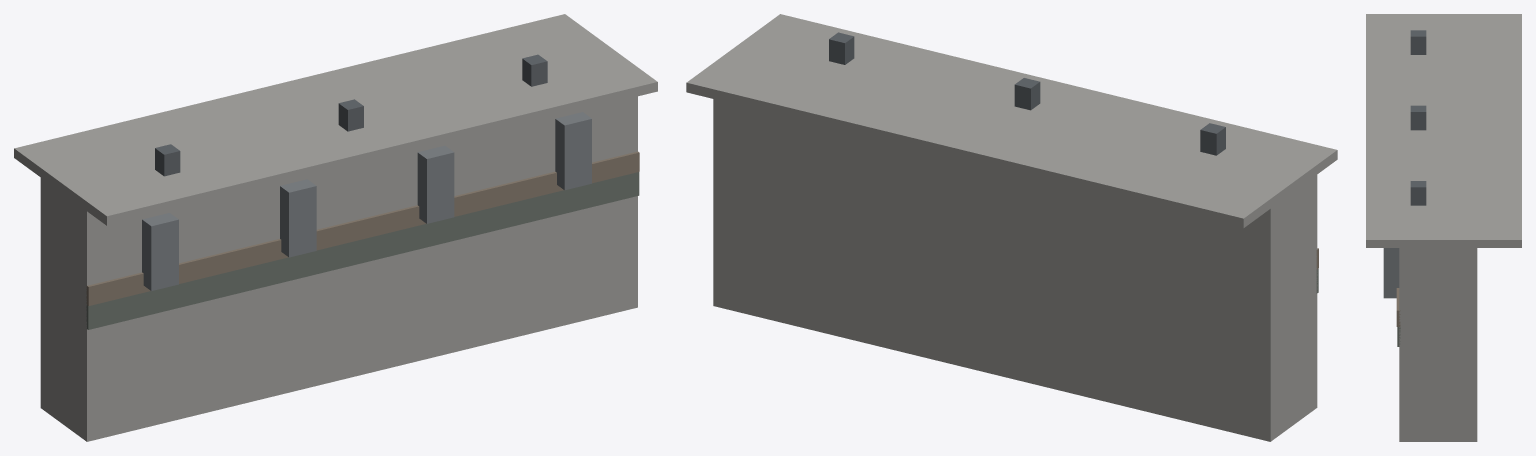
File: hk-quay-wall-module.glb
3 renders of one model, left to right at view 1: azimuth 30°, elevation 25°; view 2: azimuth 150°, elevation 25°; view 3: azimuth 270°, elevation 25°, orthographic. The views are drawn at different scales.
Visible parts, largest first — view 1: quay-wall; view 2: quay-wall; view 3: quay-wall.
Part boxes in pixels (<box>): quay-wall: <box>14,14,657,441</box>; quay-wall: <box>686,14,1337,441</box>; quay-wall: <box>1366,14,1521,441</box>.
Bounding box in the file's own units: 24 × 10.9 × 7.
